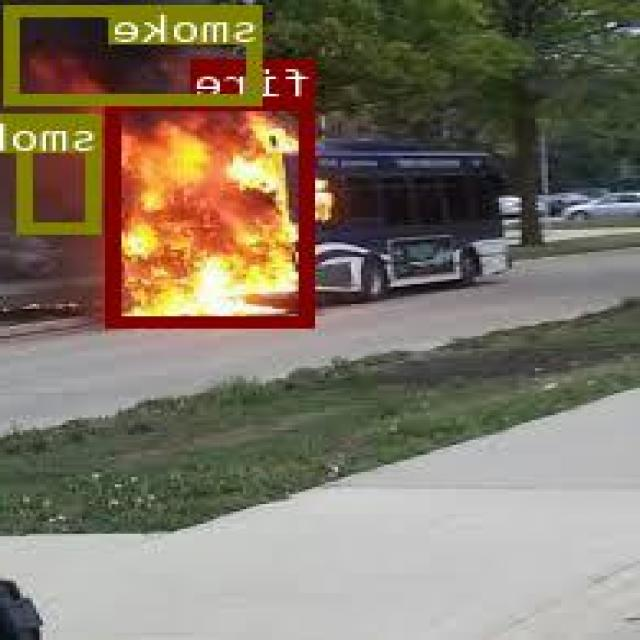fire: (112, 98, 316, 326)
smoke: (7, 3, 266, 103), (21, 112, 104, 230)
